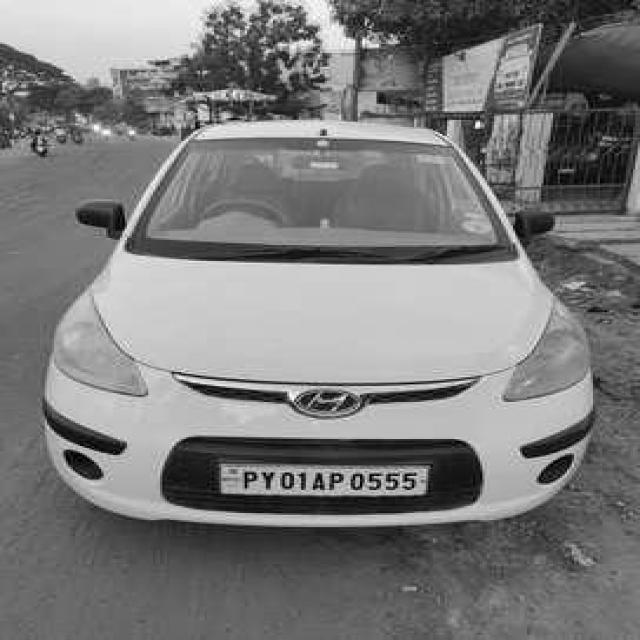car: (33, 111, 607, 545)
license-plate: (214, 464, 426, 499)
